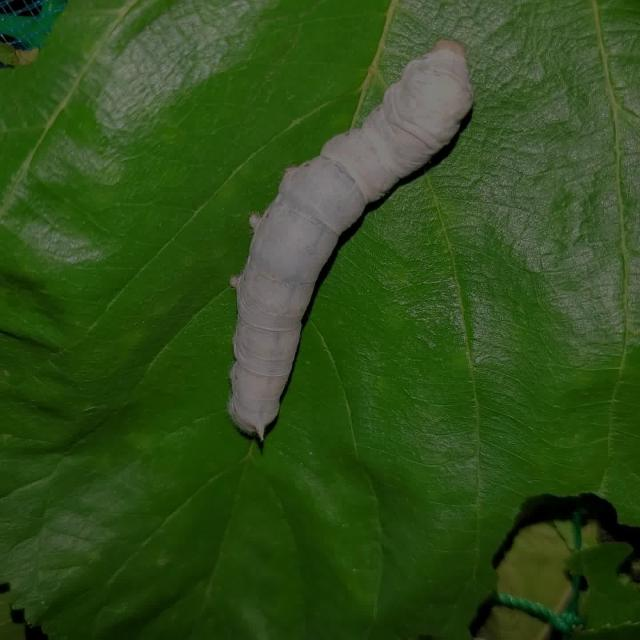Healthy: (202, 31, 488, 451)
